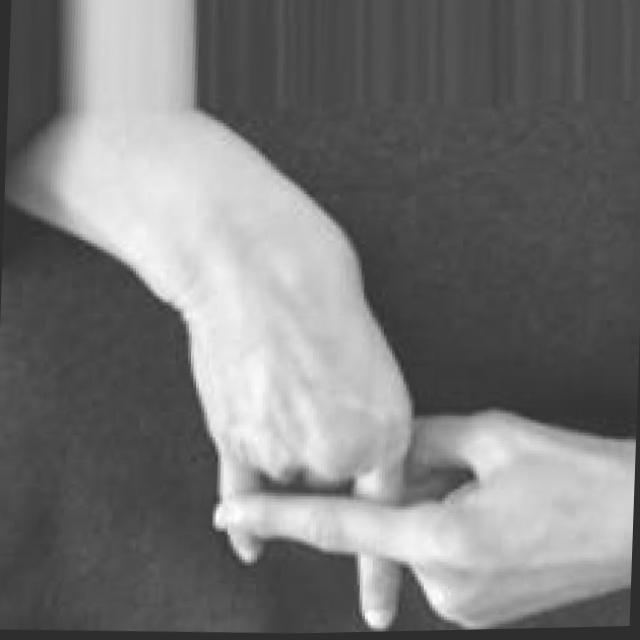H: (168, 255, 616, 636)
